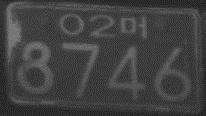0: (58, 12, 84, 36)
2: (88, 13, 117, 39)
4: (107, 45, 146, 100)
6: (153, 46, 191, 104)
7: (60, 41, 99, 97)
8: (16, 39, 53, 95)
머: (119, 14, 147, 38)
